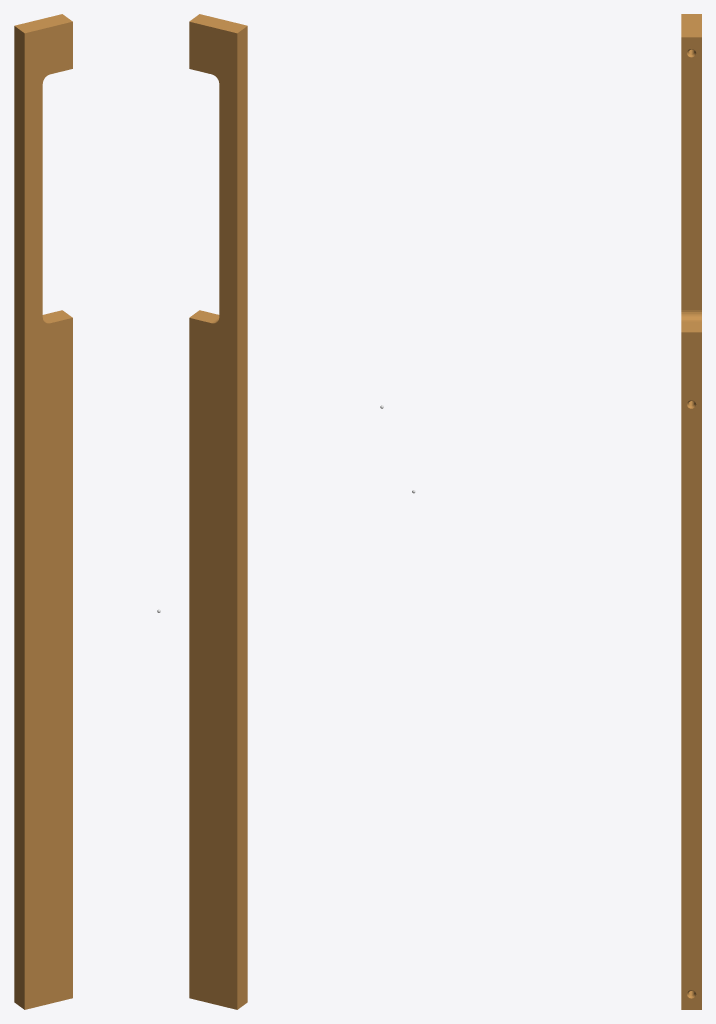
File: 169 pvd gold.glb
3 renders of one model, left to right at view 1: azimuth 30°, elevation 25°; view 2: azimuth 150°, elevation 25°; view 3: azimuth 270°, elevation 25°, orthographic.
Parts seen in each view (by area): view 1: CABINET_HANDLE_169; view 2: CABINET_HANDLE_169; view 3: CABINET_HANDLE_169.
Part boxes in pixels (x1,y1,x2,y2): CABINET_HANDLE_169: (14,14,72,1009); CABINET_HANDLE_169: (189,14,247,1009); CABINET_HANDLE_169: (681,14,701,1009).
Bounding box in the file's own units: 0.8885 × 16.69 × 4.51.
